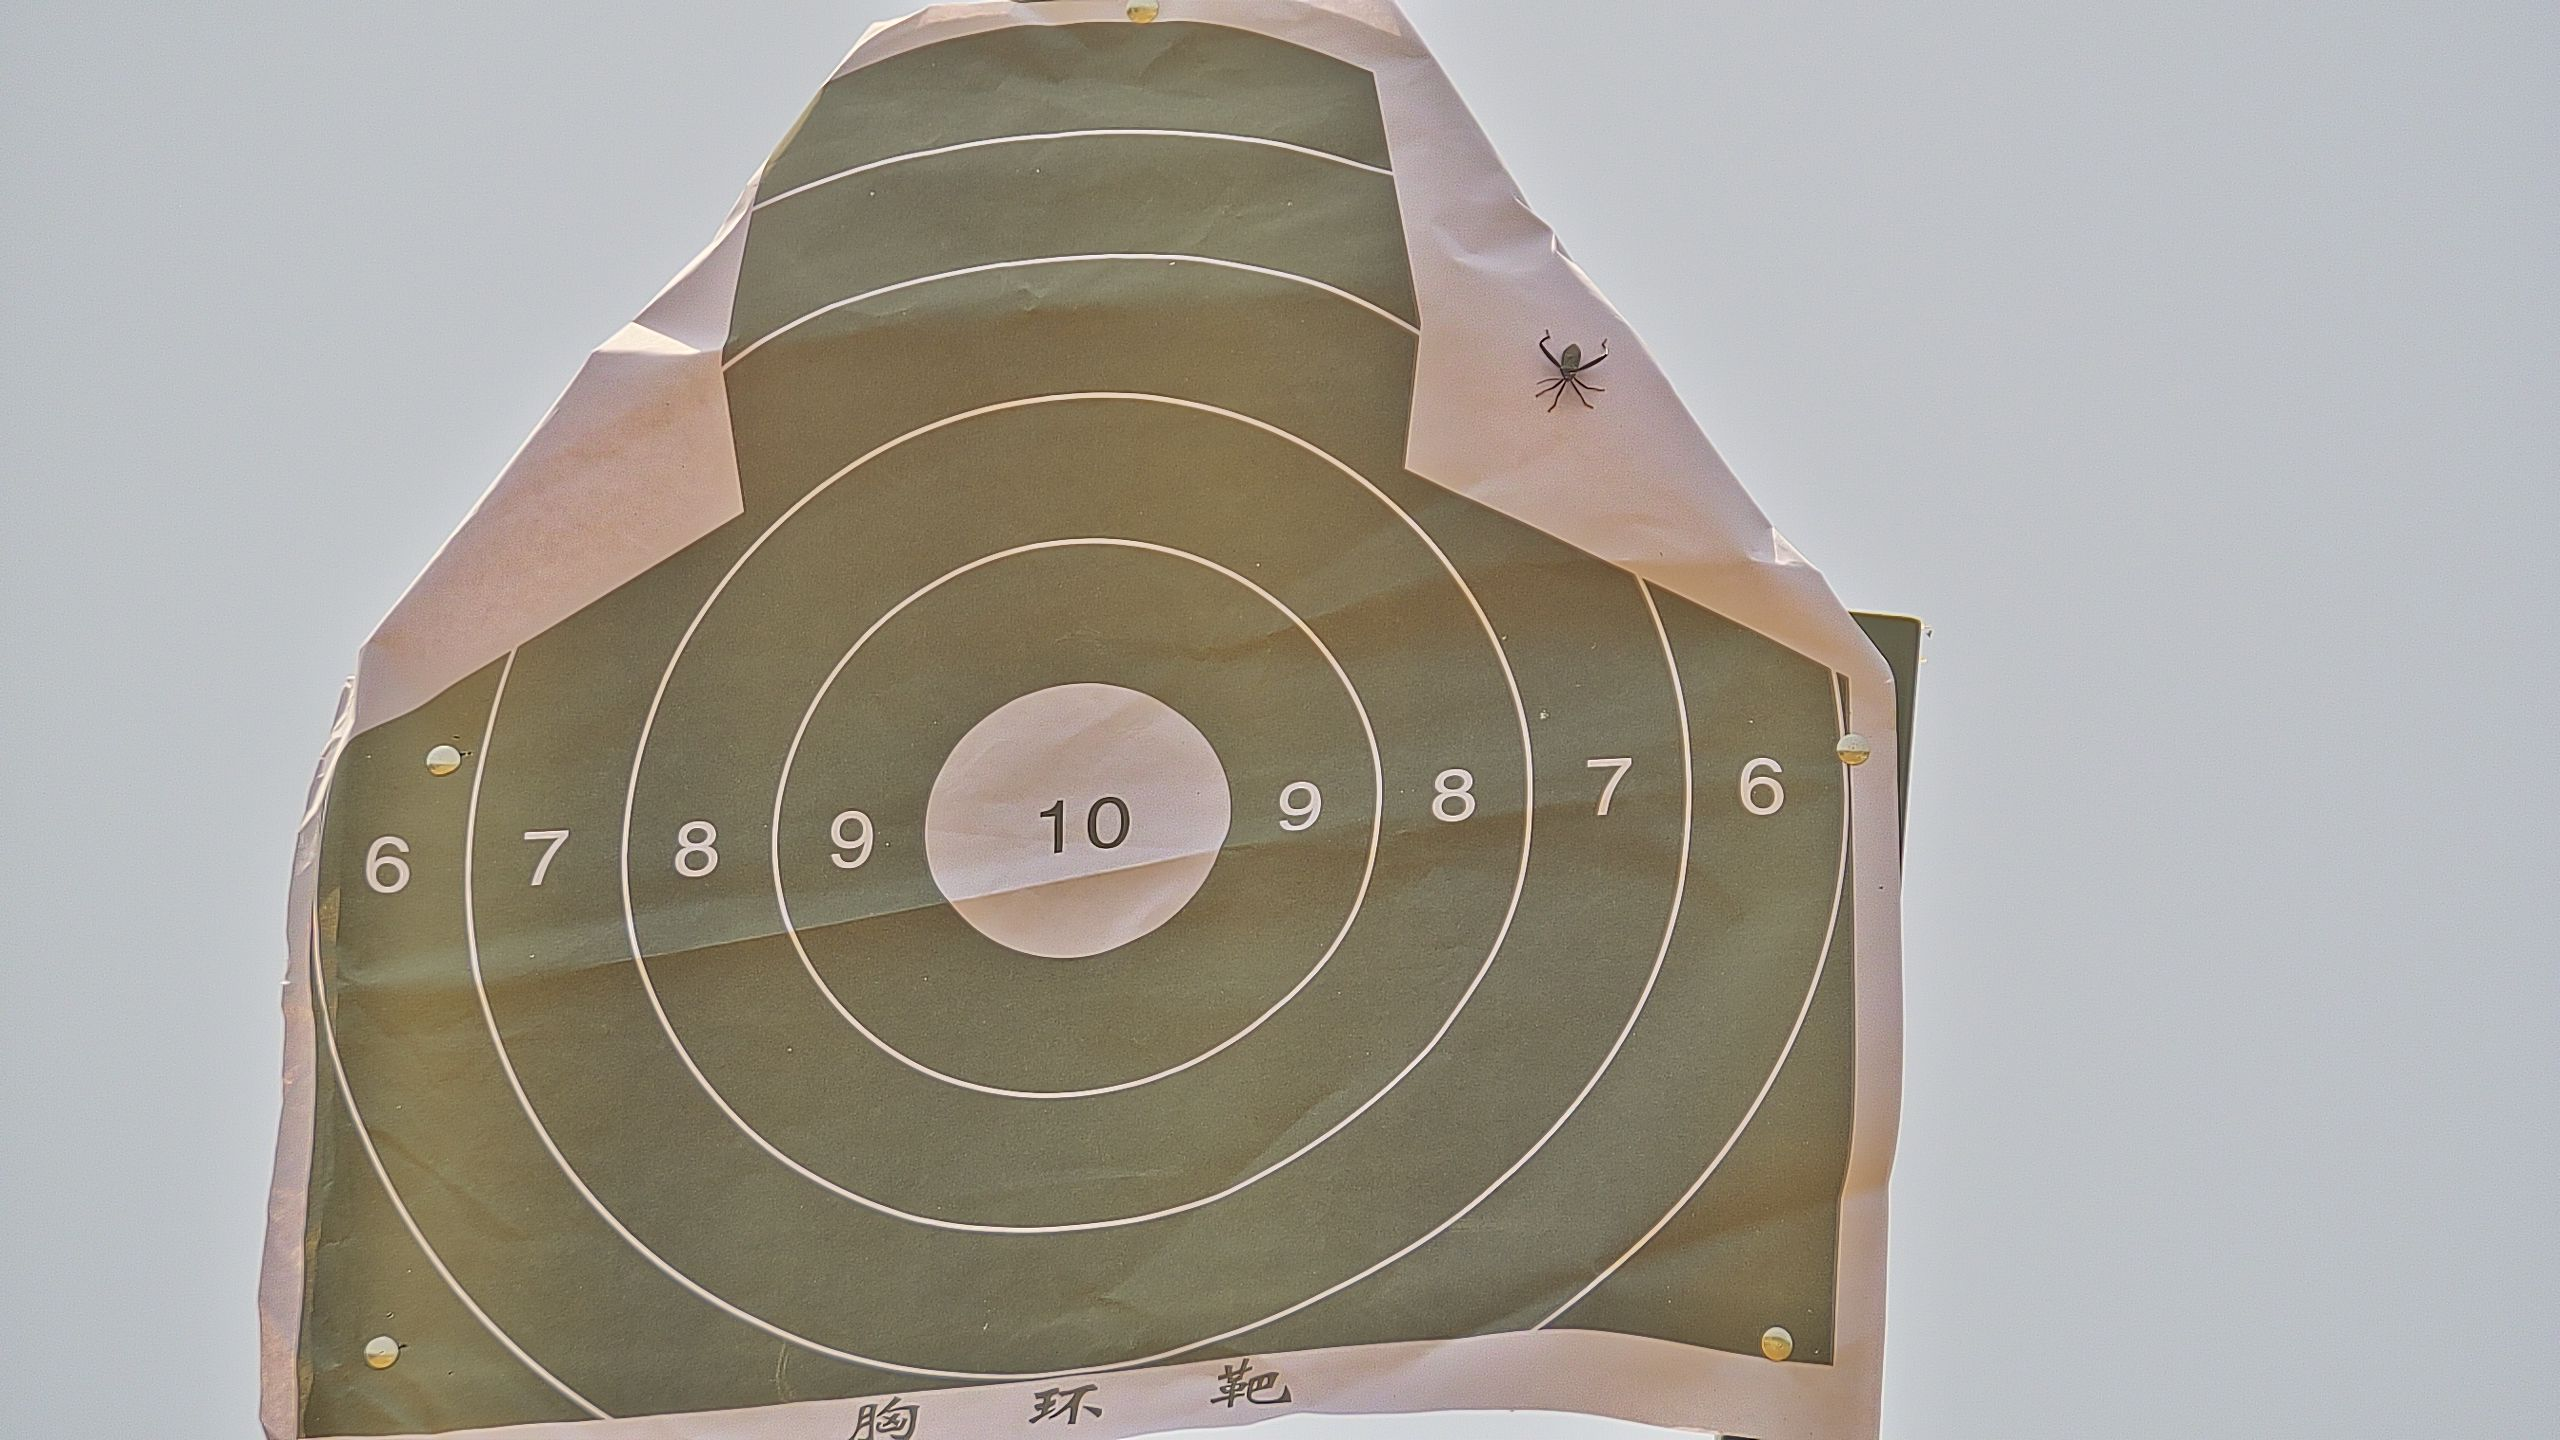kernel: (1076, 823, 1078, 828)
target: (290, 33, 1864, 1440)
ten: (920, 675, 1233, 965)
